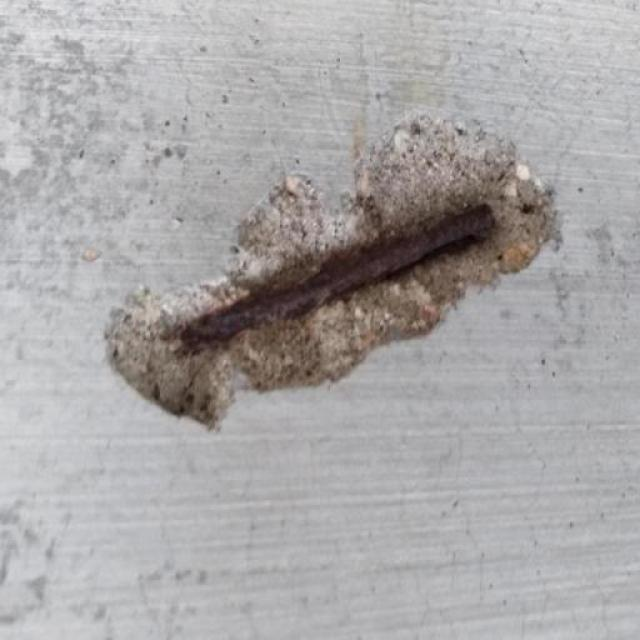D10: (105, 116, 555, 429)
